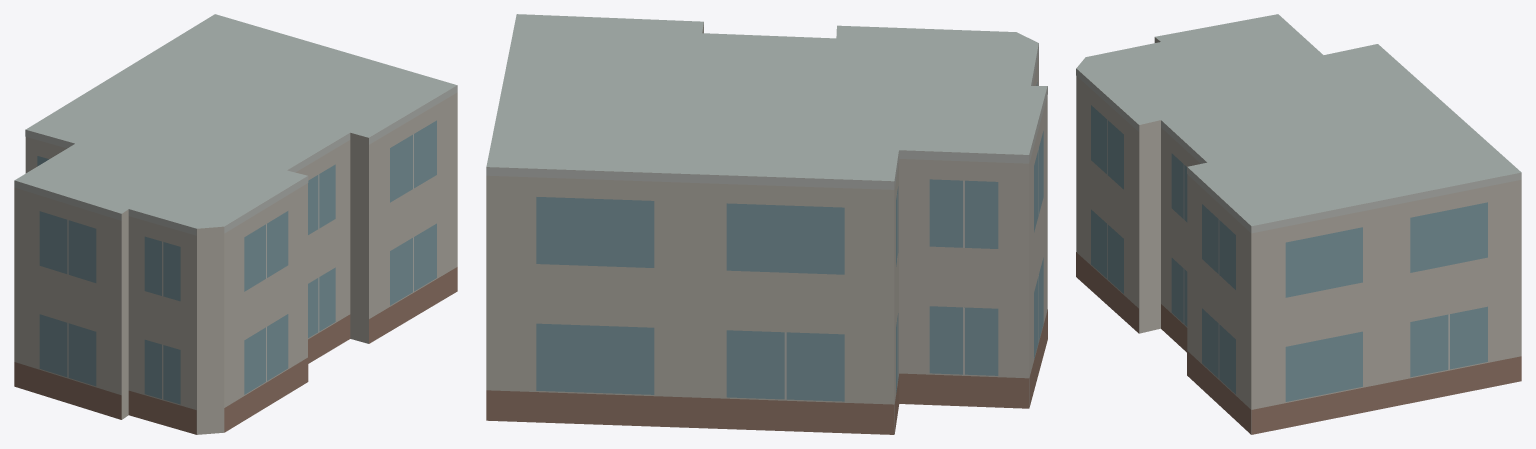
The model's file is survey-upis-32741641.glb.
3 views of the same model, side by side, from view 1: azimuth 30°, elevation 25°; view 2: azimuth 150°, elevation 25°; view 3: azimuth 270°, elevation 25° (orthographic). The views are drawn at different scales.
Parts seen in each view (by area): view 1: survey-upis-32741641.tmp; view 2: survey-upis-32741641.tmp; view 3: survey-upis-32741641.tmp.
Boxes of the visible parts, x1,y1,x2,y2 form: survey-upis-32741641.tmp: [14, 14, 457, 434]; survey-upis-32741641.tmp: [486, 14, 1047, 434]; survey-upis-32741641.tmp: [1076, 14, 1521, 434].
Size of the model in its own units: 15.5 by 7.1 by 13.75.
